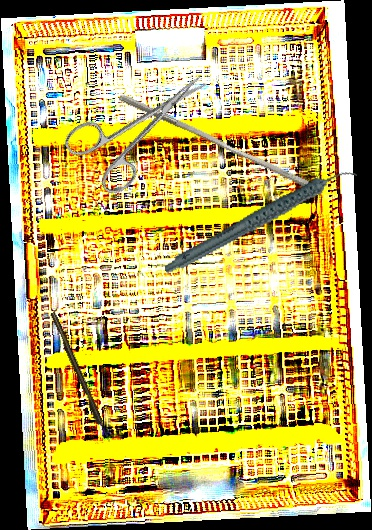Handpiece: (152, 166, 370, 277)
Hook Surgical: (49, 311, 112, 444)
Iris Scissors: (60, 50, 228, 203)
Pusher: (115, 92, 313, 190)
